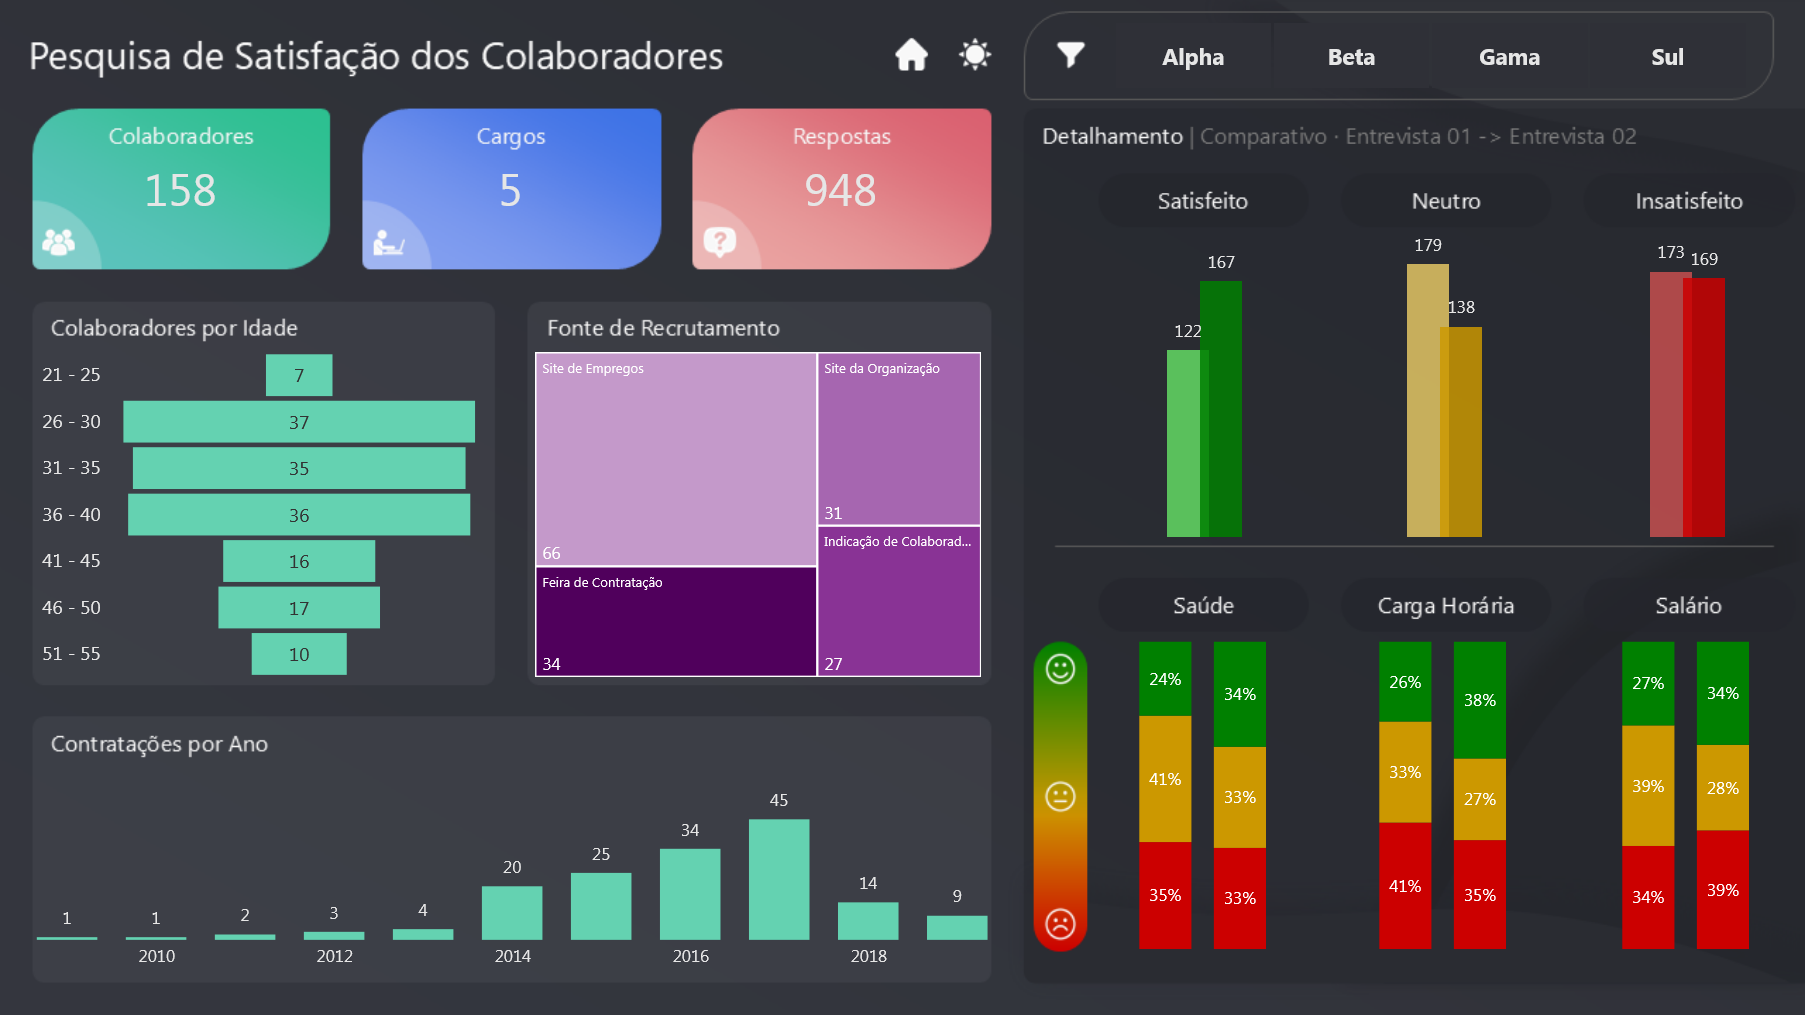

The dashboard page shown, as its layout file describes it:
{"tool":"powerbi","page":{"name":"Pesquisa de Satisfação dos Colaboradores Dark","canvas":[1280,720],"ordinal":1},"visuals":[{"type":"card","fields":{"Values":["Entrevistas.qtde_perguntas"]},"box":[490,76,212.5,116],"z":0},{"type":"card","fields":{"Values":["bd_integrantes.qtde_funcionários"]},"box":[22,76,212,116.2],"z":1000},{"type":"card","fields":{"Values":["bd_integrantes.qtde_cargos"]},"box":[256,76,212,116],"z":2000},{"type":"slicer","fields":{"Values":["bd_integrantes.Unidade"]},"box":[770.2,8.6,487.1,62],"z":3000},{"type":"treemap","fields":{"Group":["bd_integrantes.Fonte Recrutamento"],"Values":["bd_integrantes.qtde_funcionários"]},"box":[374,244,328,242],"z":4000},{"type":"clusteredColumnChart","fields":{"Category":["bd_integrantes.Data Contratação.Variation.Hierarquia de datas.Ano"],"Y":["bd_integrantes.qtde_funcionários"]},"box":[22,538,682,160],"z":5000},{"type":"funnel","fields":{"Category":["bd_integrantes.Faixa Etária"],"Y":["bd_integrantes.qtde_funcionários"]},"box":[22,244,328,242],"z":6000},{"type":"hundredPercentStackedColumnChart","fields":{"Category":["fEntrevistas.entrevista"],"Series":["fEntrevistas.resposta"],"Y":["Entrevistas.qtde_perguntas"]},"box":[782,441.5,146,238],"z":7000},{"type":"clusteredColumnChart","fields":{"Category":["fEntrevistas.resposta"],"Series":["fEntrevistas.entrevista"],"Y":["Entrevistas.qtde_perguntas"]},"box":[944.9,148,160,240],"z":8000},{"type":"clusteredColumnChart","fields":{"Category":["fEntrevistas.resposta"],"Series":["fEntrevistas.entrevista"],"Y":["Entrevistas.qtde_perguntas"]},"box":[774.5,148,160,240],"z":9000},{"type":"actionButton","box":[668,18,40,40],"z":10000},{"type":"actionButton","box":[606,20,40,40],"z":11000},{"type":"clusteredColumnChart","fields":{"Category":["fEntrevistas.resposta"],"Series":["fEntrevistas.entrevista"],"Y":["Entrevistas.qtde_perguntas"]},"box":[1117,148,160,240],"z":12000},{"type":"hundredPercentStackedColumnChart","fields":{"Category":["fEntrevistas.entrevista"],"Series":["fEntrevistas.resposta"],"Y":["Entrevistas.qtde_perguntas"]},"box":[952,441,146,238],"z":13000},{"type":"hundredPercentStackedColumnChart","fields":{"Category":["fEntrevistas.entrevista"],"Series":["fEntrevistas.resposta"],"Y":["Entrevistas.qtde_perguntas"]},"box":[1124,441.5,146,238],"z":14000}]}

Visuals, with their boxes in screenshot pixels (x1, y1, x2, y2), scaled from the page's 1280x720 canvas onto the 1805x1015 screenshot:
card - Entrevistas.qtde_perguntas: <box>691,107,991,271</box>
card - bd_integrantes.qtde_funcionários: <box>31,107,330,271</box>
card - bd_integrantes.qtde_cargos: <box>361,107,660,271</box>
slicer - bd_integrantes.Unidade: <box>1086,12,1773,100</box>
treemap - bd_integrantes.Fonte Recrutamento x bd_integrantes.qtde_funcionários: <box>527,344,990,685</box>
clusteredColumnChart - bd_integrantes.Data Contratação.Variation.Hierarquia de datas.Ano x bd_integrantes.qtde_funcionários: <box>31,758,993,984</box>
funnel - bd_integrantes.Faixa Etária x bd_integrantes.qtde_funcionários: <box>31,344,494,685</box>
hundredPercentStackedColumnChart - fEntrevistas.entrevista x fEntrevistas.resposta: <box>1103,622,1309,958</box>
clusteredColumnChart - fEntrevistas.resposta x fEntrevistas.entrevista: <box>1332,209,1558,547</box>
clusteredColumnChart - fEntrevistas.resposta x fEntrevistas.entrevista: <box>1092,209,1318,547</box>
actionButton: <box>942,25,998,82</box>
actionButton: <box>855,28,911,85</box>
clusteredColumnChart - fEntrevistas.resposta x fEntrevistas.entrevista: <box>1575,209,1801,547</box>
hundredPercentStackedColumnChart - fEntrevistas.entrevista x fEntrevistas.resposta: <box>1342,622,1548,957</box>
hundredPercentStackedColumnChart - fEntrevistas.entrevista x fEntrevistas.resposta: <box>1585,622,1791,958</box>
